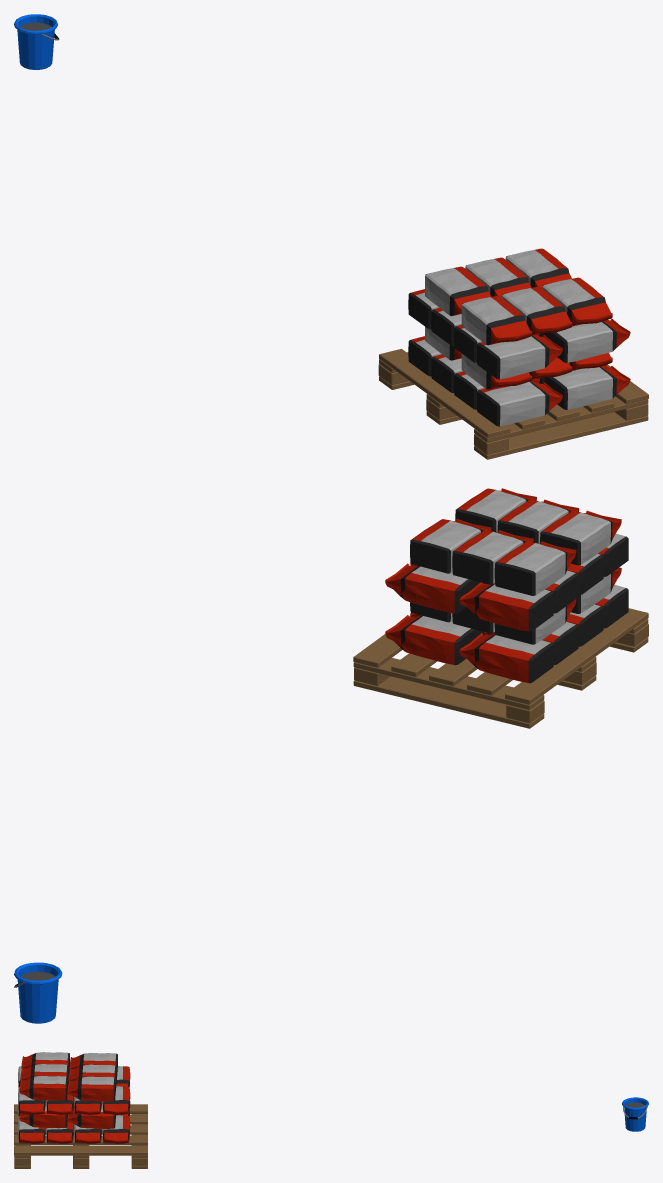
File: concrete palett+bucket.fbx
3 views of the same model, one above another, from view 1: azimuth 30°, elevation 25°; view 2: azimuth 150°, elevation 25°; view 3: azimuth 270°, elevation 25° (orthographic). The views are drawn at different scales.
Parts seen in each view (by area): view 1: Zement_Plattte.001, Zement_Plattte, Bucket_water; view 2: Zement_Plattte.001, Zement_Plattte, Bucket_water; view 3: Zement_Plattte.001, Zement_Plattte, Bucket_water.
Part boxes in pixels (x1,y1,x2,y2): Zement_Plattte.001: (408,248,630,426); Zement_Plattte: (378,349,648,459); Bucket_water: (14,14,59,69); Zement_Plattte.001: (385,488,628,683); Zement_Plattte: (353,608,648,728); Bucket_water: (14,962,62,1023); Zement_Plattte.001: (18,1052,130,1143); Zement_Plattte: (14,1104,147,1168); Bucket_water: (622,1097,648,1131).
Size of the model in its own units: 681 by 488 by 3752.
